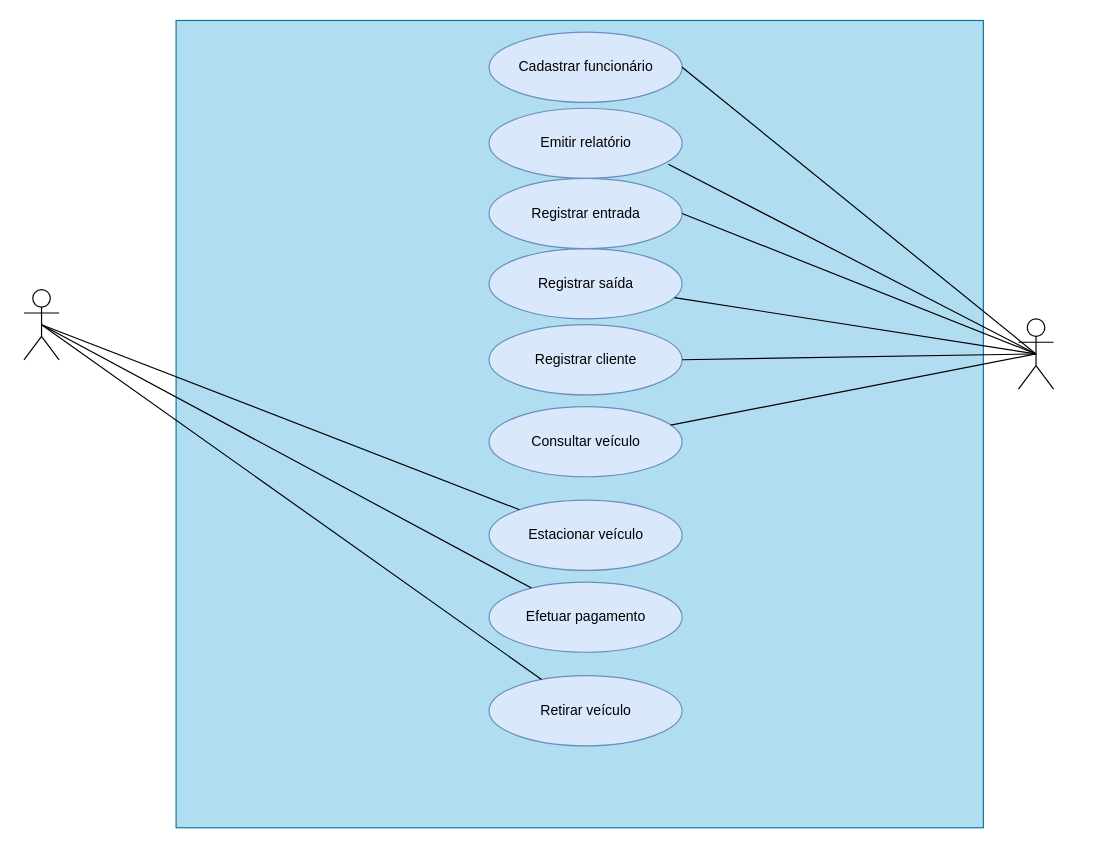
This 1093x848 diagram has some shape labels left out. Here are the shapes that lost their labels. From the top down, the centre of each, then its label:
(x=41, y=324): Cliente
(x=1035, y=353): Funcionário
